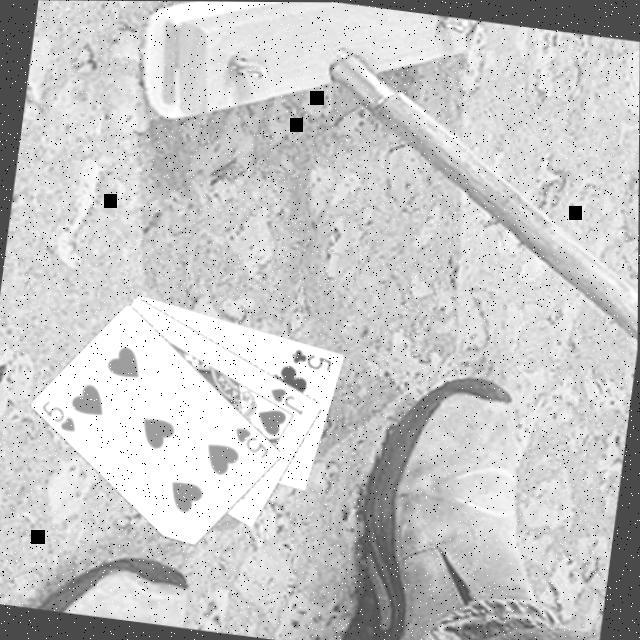5C: (288, 342, 338, 372)
5H: (37, 395, 84, 435), (230, 422, 276, 461)
JH: (266, 381, 311, 417)
